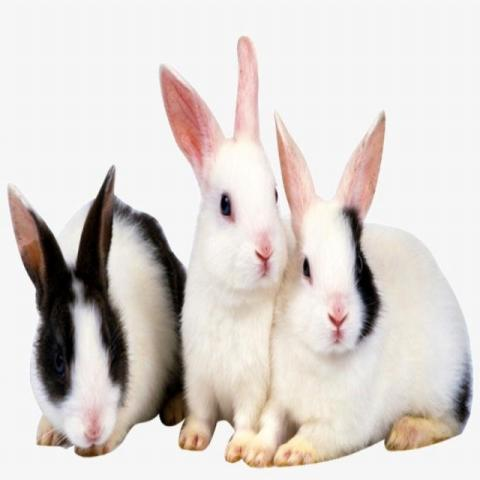small_animal: (241, 108, 473, 470), (155, 33, 291, 464), (4, 163, 188, 459)
